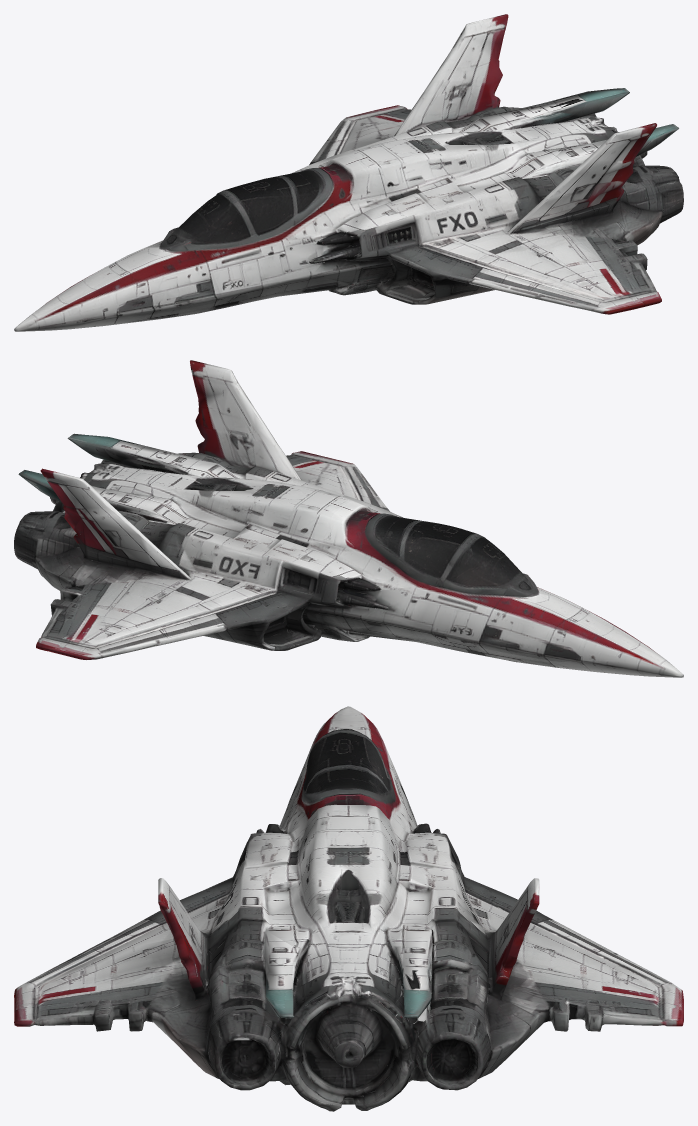
File: spaceship_fighter__-_version_1_meshy_6.glb
3 views of the same model, one above another, from view 1: azimuth 30°, elevation 25°; view 2: azimuth 150°, elevation 25°; view 3: azimuth 270°, elevation 25° (orthographic). The views are drawn at different scales.
Parts seen in each view (by area): view 1: Mesh1.0_Material.001_0; view 2: Mesh1.0_Material.001_0; view 3: Mesh1.0_Material.001_0.
Part boxes in pixels (x1=…): Mesh1.0_Material.001_0: x1=14, y1=14, x2=683, y2=331; Mesh1.0_Material.001_0: x1=14, y1=360, x2=683, y2=677; Mesh1.0_Material.001_0: x1=14, y1=706, x2=683, y2=1111.
Size of the model in its own units: 1.91 by 0.4498 by 1.38.
1 material, 1 textured.
